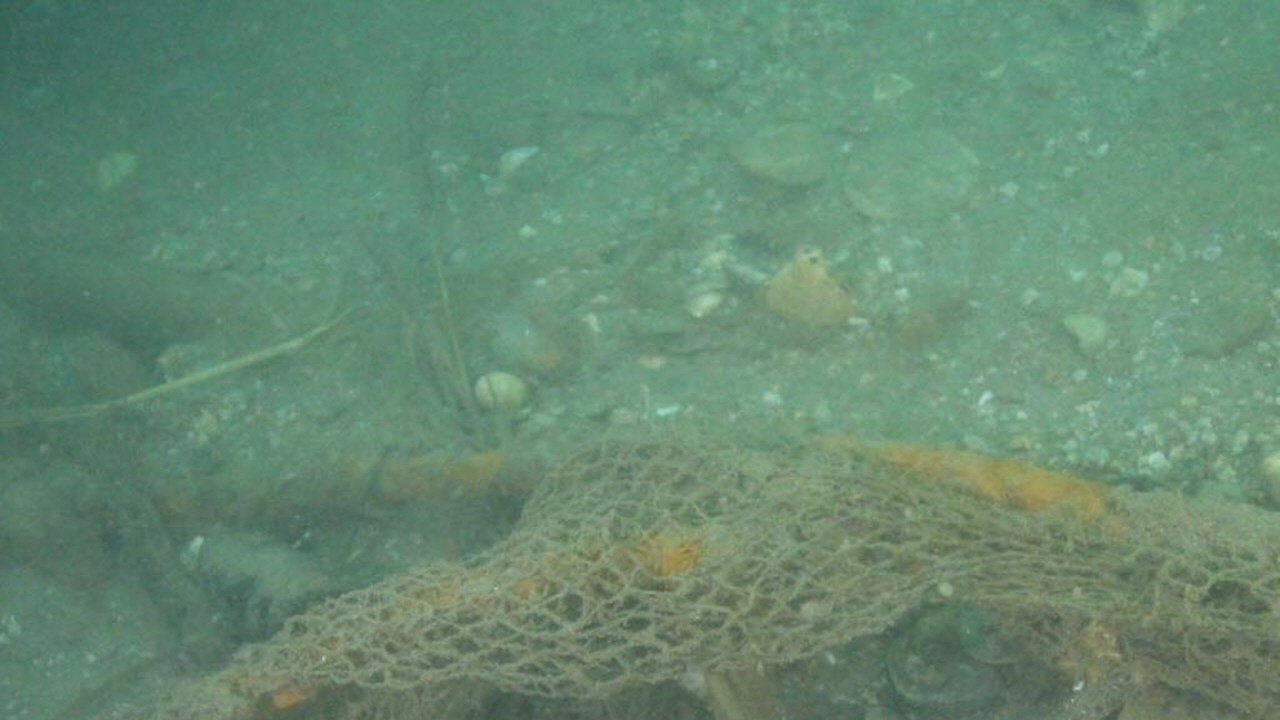fish net: (239, 429, 1279, 720)
